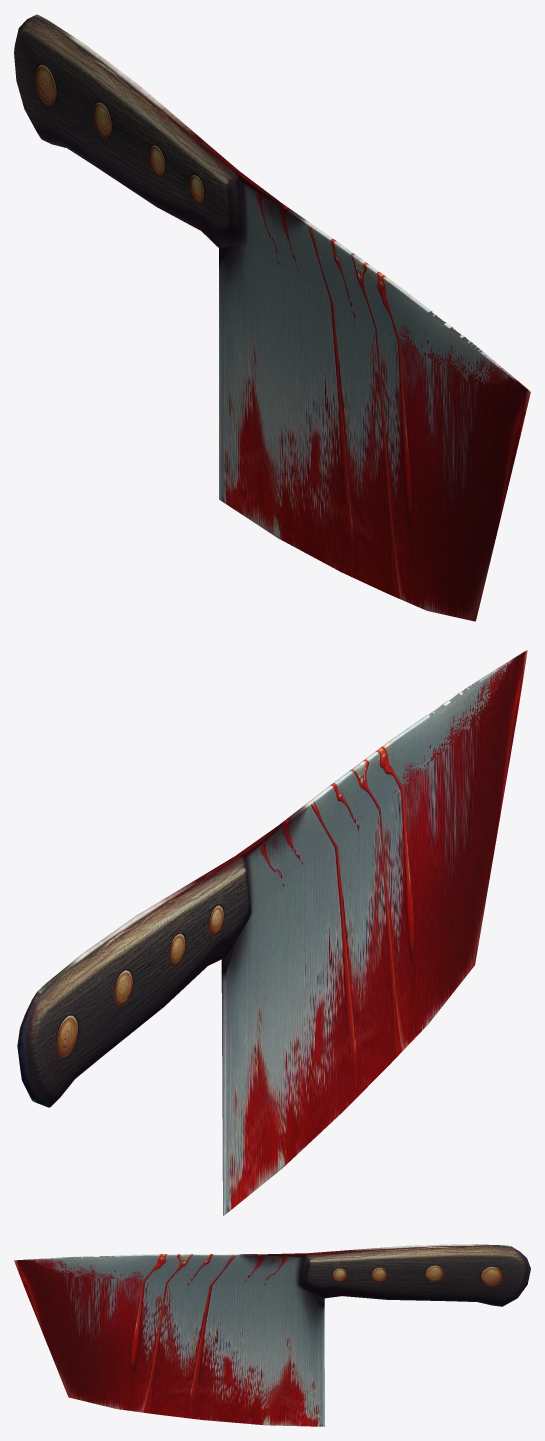
File: knife2.fbx
3 views of the same model, one above another, from view 1: azimuth 30°, elevation 25°; view 2: azimuth 150°, elevation 25°; view 3: azimuth 270°, elevation 25° (orthographic). The views are drawn at different scales.
Visible parts, largest first — view 1: Knife2; view 2: Knife2; view 3: Knife2.
Part boxes in pixels (box(x1,y1,x2,y2)): Knife2: box(14, 14, 530, 621); Knife2: box(17, 650, 527, 1215); Knife2: box(14, 1244, 530, 1426).
Bounding box in the file's own units: 7.03 × 106 × 274.
